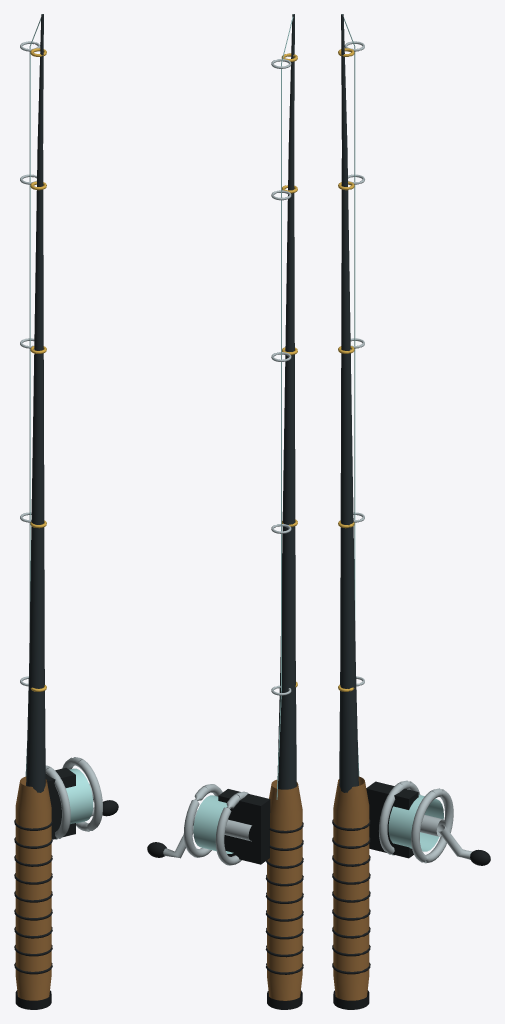
Rendered from fishing_rod.obj.
3 renders of one model, left to right at view 1: azimuth 30°, elevation 25°; view 2: azimuth 150°, elevation 25°; view 3: azimuth 330°, elevation 25°, orthographic.
Bounding box in the file's own units: 0.1312 × 0.9712 × 0.0802.
Materials: 1 (1 with a texture image).
